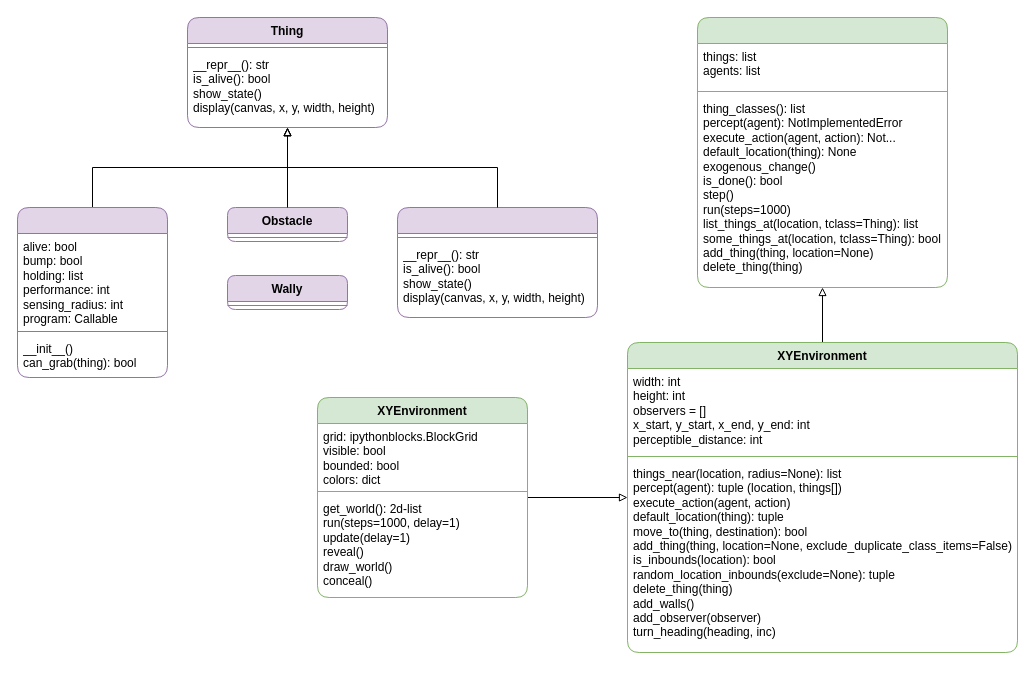
This 1035x673 diagram has some shape labels left out. The shapes that lost their labels are listed below. From the top down, each one's box as (x1, y1, x2, y2) in pixels, then its label:
(696, 16, 948, 288): Environment
(396, 206, 598, 318): Dirt
(16, 206, 168, 378): Agent
